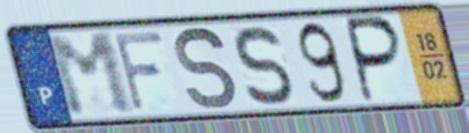9: (294, 19, 349, 106)
F: (110, 28, 168, 115)
M: (42, 29, 139, 120)
P: (345, 14, 407, 106)
S: (172, 24, 240, 113), (233, 23, 296, 108)
